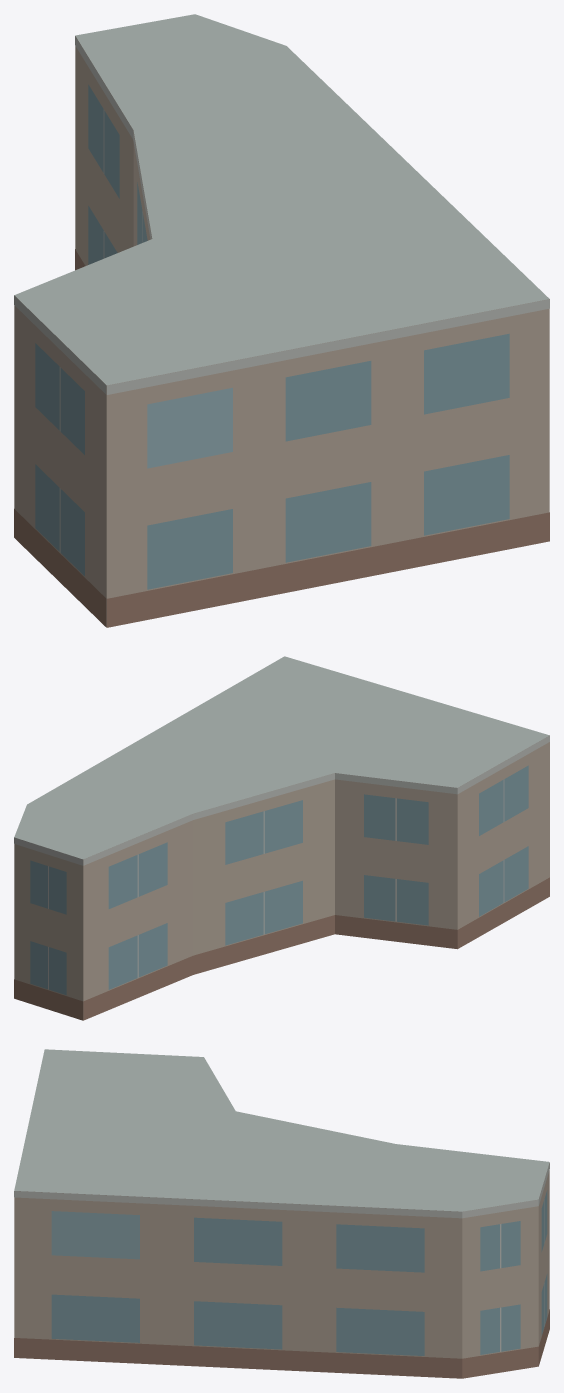
Rendered from survey-upis-33031812.glb.
3 views of the same model, one above another, from view 1: azimuth 30°, elevation 25°; view 2: azimuth 150°, elevation 25°; view 3: azimuth 270°, elevation 25° (orthographic). The views are drawn at different scales.
Parts seen in each view (by area): view 1: survey-upis-33031812.tmp; view 2: survey-upis-33031812.tmp; view 3: survey-upis-33031812.tmp.
Part boxes in pixels (bbox=[...]): survey-upis-33031812.tmp: bbox=[14, 14, 549, 627]; survey-upis-33031812.tmp: bbox=[14, 656, 549, 1020]; survey-upis-33031812.tmp: bbox=[14, 1049, 549, 1378].
Size of the model in its own units: 12.73 by 6.1 by 17.74.
